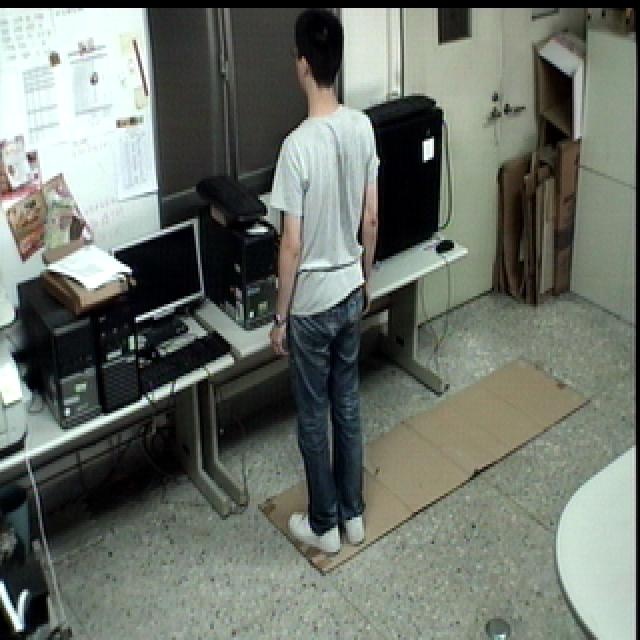stand: (261, 3, 386, 565)
